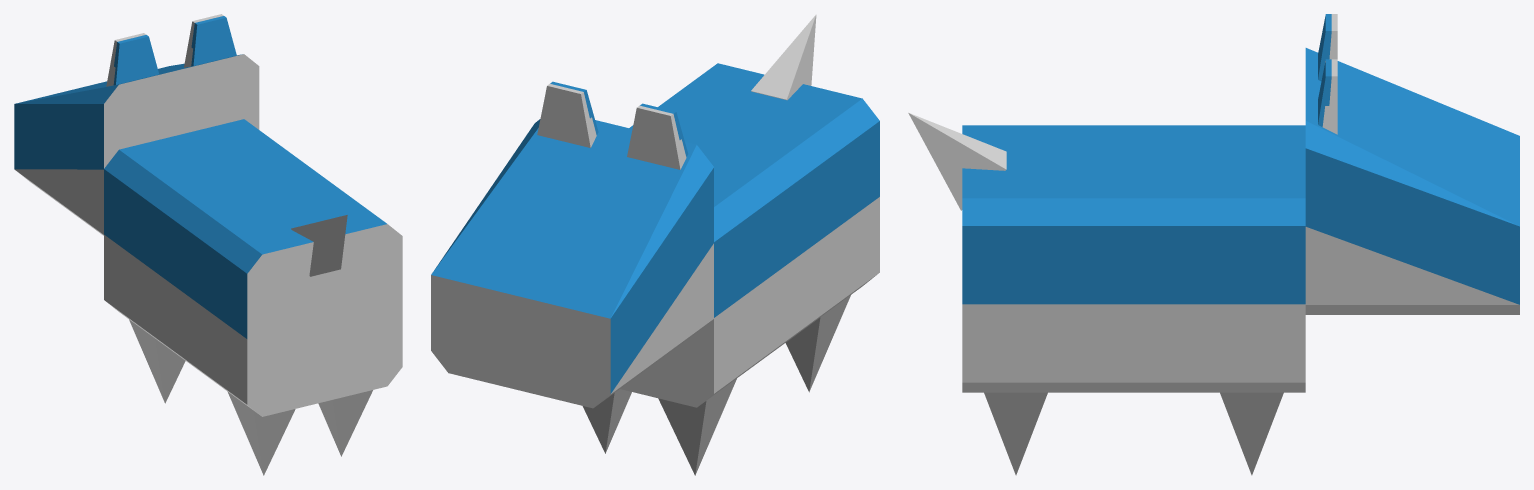
The model's file is baseDog.FBX.
The picture shows the model from 3 angles, left to right: view 1: azimuth 30°, elevation 25°; view 2: azimuth 150°, elevation 25°; view 3: azimuth 270°, elevation 25°; orthographic projection. The views are drawn at different scales.
Parts seen in each view (by area): view 1: plane_body_14; view 2: plane_body_14; view 3: plane_body_14.
Boxes of the visible parts, <box> form: plane_body_14: <box>14,14,402,475</box>; plane_body_14: <box>431,14,879,475</box>; plane_body_14: <box>908,14,1519,475</box>.
Bounding box in the file's own units: 1000 × 2100 × 2854.
